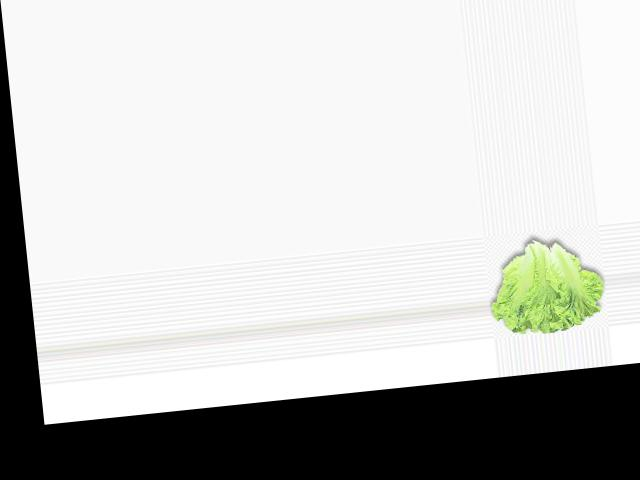lettuce: (486, 231, 610, 337)
